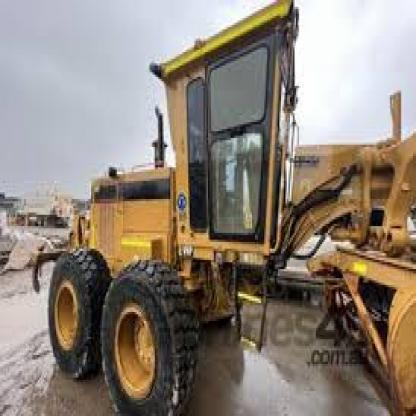bull_dozer/loader/grader: (39, 11, 414, 414)
